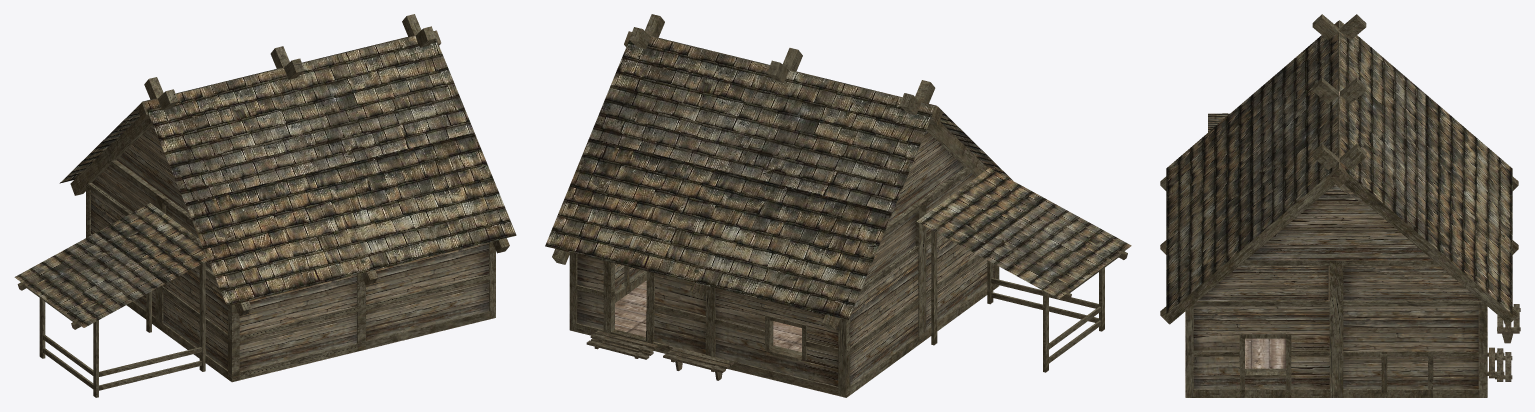
Rendered from house.glb.
The picture shows the model from 3 angles, left to right: view 1: azimuth 30°, elevation 25°; view 2: azimuth 150°, elevation 25°; view 3: azimuth 270°, elevation 25°; orthographic projection. The views are drawn at different scales.
Parts seen in each view (by area): view 1: Cube; view 2: Cube; view 3: Cube.
Boxes of the visible parts, left/top/right/bottom form: Cube: left=14, top=14, right=516, bottom=397; Cube: left=545, top=14, right=1131, bottom=397; Cube: left=1160, top=14, right=1520, bottom=397.
Size of the model in its own units: 12.27 by 6.85 by 8.84.
3 materials, 3 textured.
